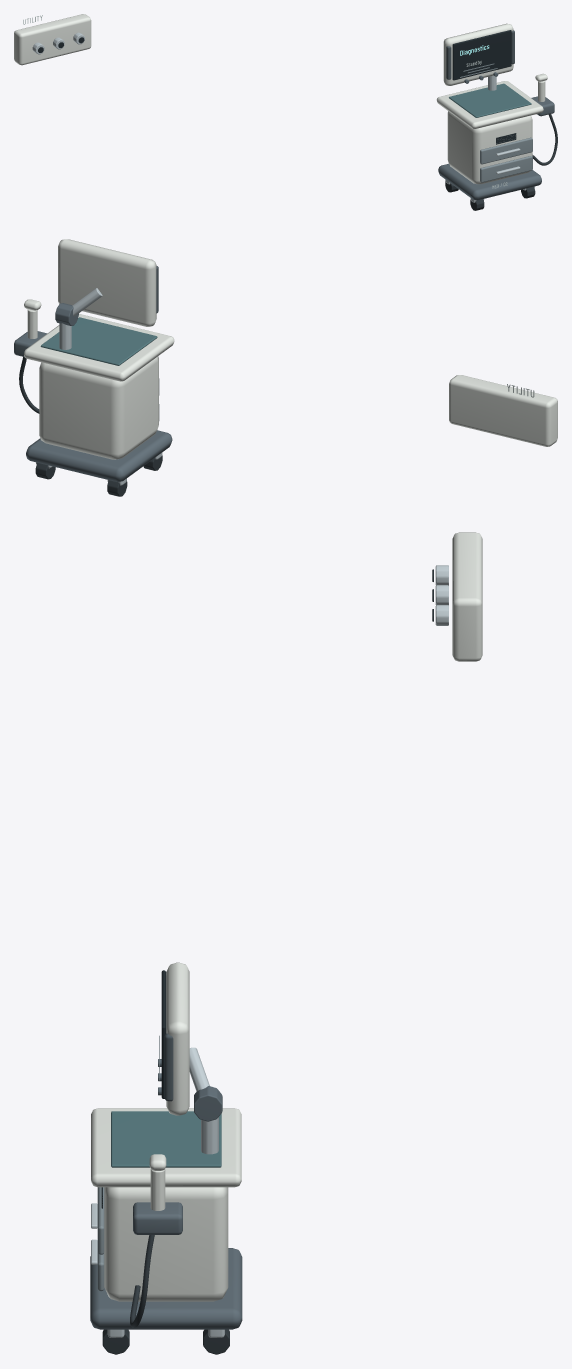
File: equipment-low.glb
3 renders of one model, top to bottom at view 1: azimuth 30°, elevation 25°; view 2: azimuth 150°, elevation 25°; view 3: azimuth 270°, elevation 25°, orthographic. The views are drawn at different scales.
Parts seen in each view (by area): view 1: equipment__Ceramic medical shell, equipment__Recess and gasket, equipment__Graphite enamel, equipment__Recessed titanium panels, equipment__Medical upholstery, equipment__Satin aluminium, equipment__Restraint webbing, equipment__Coated pressure frame; view 2: equipment__Ceramic medical shell, equipment__Graphite enamel, equipment__Medical upholstery, equipment__Restraint webbing, equipment__Satin aluminium; view 3: equipment__Ceramic medical shell, equipment__Graphite enamel, equipment__Medical upholstery, equipment__Satin aluminium, equipment__Restraint webbing.
Boxes of the visible parts, left/top/right/bottom form: equipment__Ceramic medical shell: left=14, top=14, right=547, bottom=184; equipment__Recess and gasket: left=38, top=30, right=516, bottom=144; equipment__Graphite enamel: left=438, top=72, right=554, bottom=200; equipment__Recessed titanium panels: left=460, top=63, right=532, bottom=182; equipment__Medical upholstery: left=449, top=83, right=531, bottom=117; equipment__Satin aluminium: left=32, top=32, right=534, bottom=202; equipment__Restraint webbing: left=445, top=114, right=557, bottom=210; equipment__Coated pressure frame: left=446, top=30, right=514, bottom=79; equipment__Ceramic medical shell: left=24, top=239, right=557, bottom=459; equipment__Graphite enamel: left=14, top=303, right=172, bottom=481; equipment__Medical upholstery: left=40, top=317, right=157, bottom=365; equipment__Restraint webbing: left=19, top=357, right=162, bottom=496; equipment__Satin aluminium: left=36, top=288, right=162, bottom=485; equipment__Ceramic medical shell: left=91, top=532, right=482, bottom=1301; equipment__Graphite enamel: left=90, top=1059, right=242, bottom=1329; equipment__Medical upholstery: left=111, top=1111, right=221, bottom=1167; equipment__Satin aluminium: left=91, top=565, right=448, bottom=1337; equipment__Restraint webbing: left=102, top=1235, right=229, bottom=1354.
Bounding box in the file's own units: 6.36 × 2.79 × 2.35.
